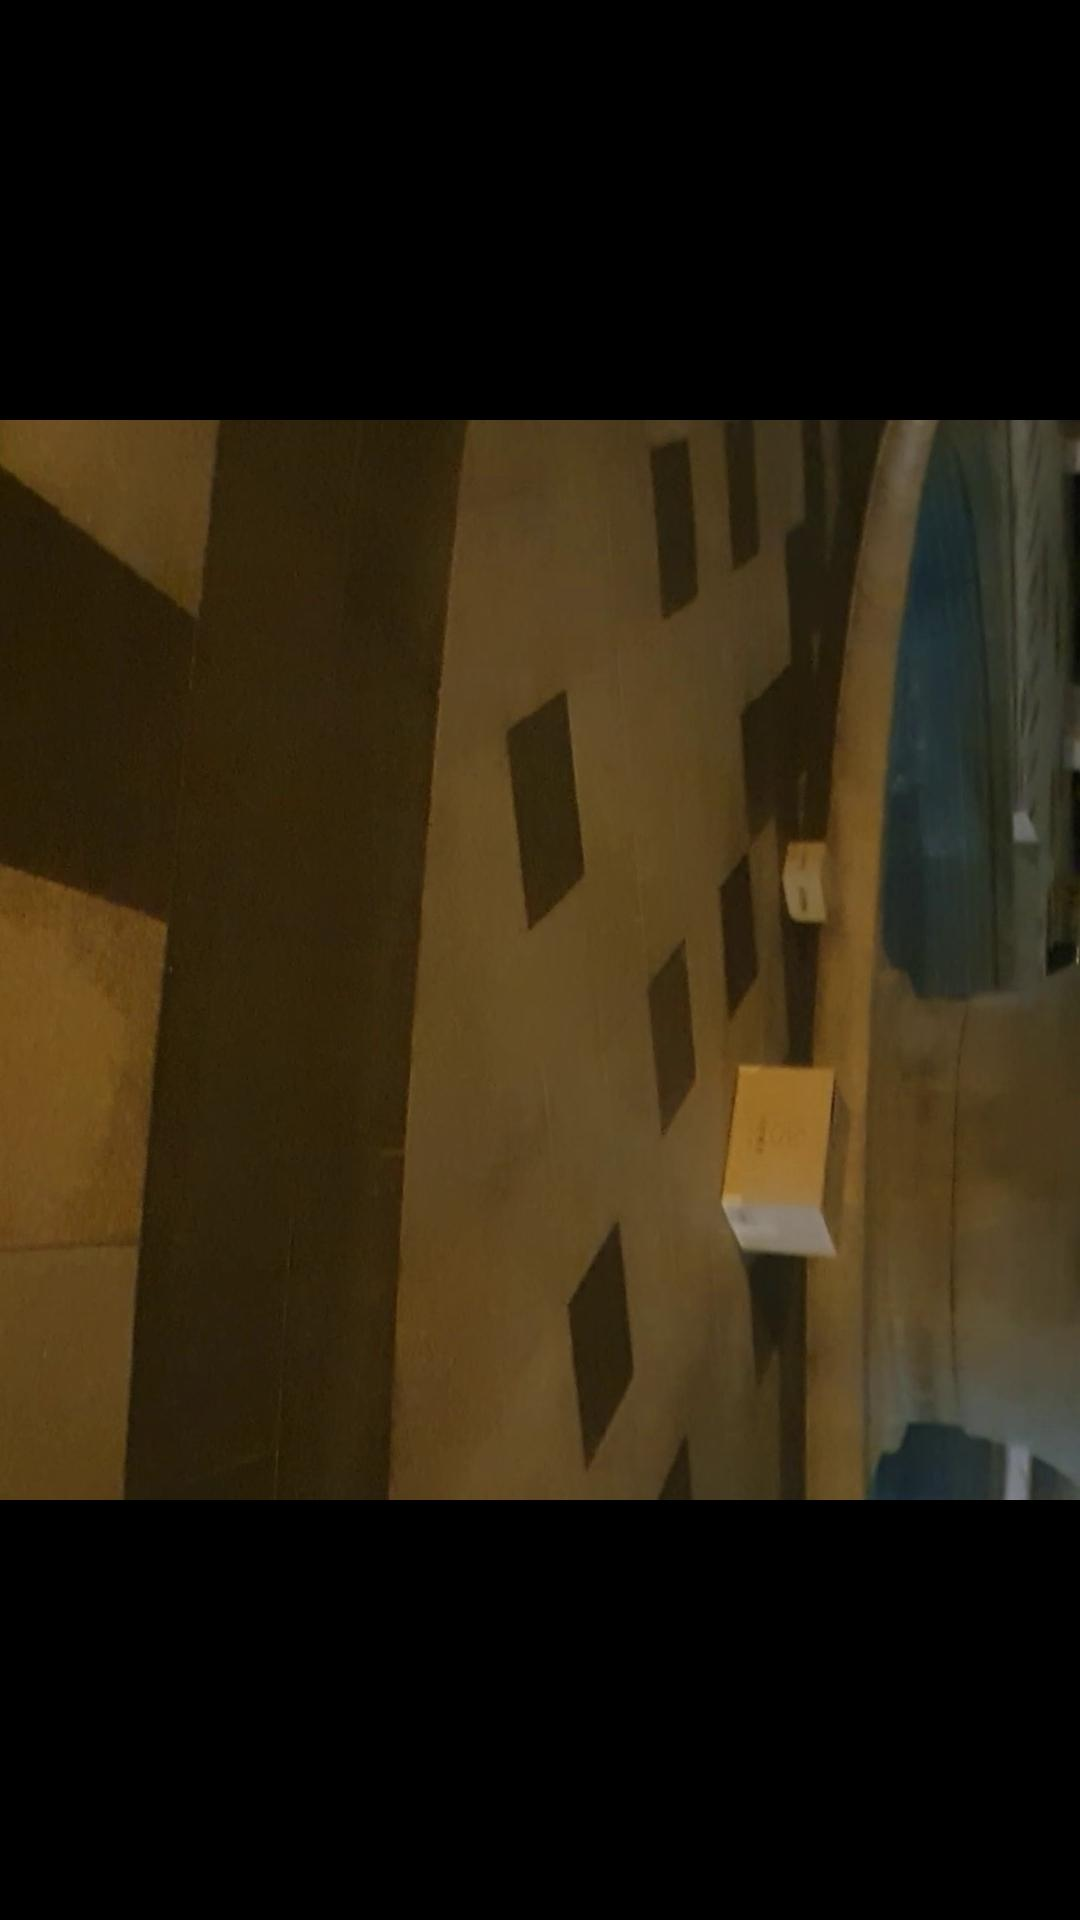Box: (723, 1062, 855, 1255), (767, 831, 851, 930)
